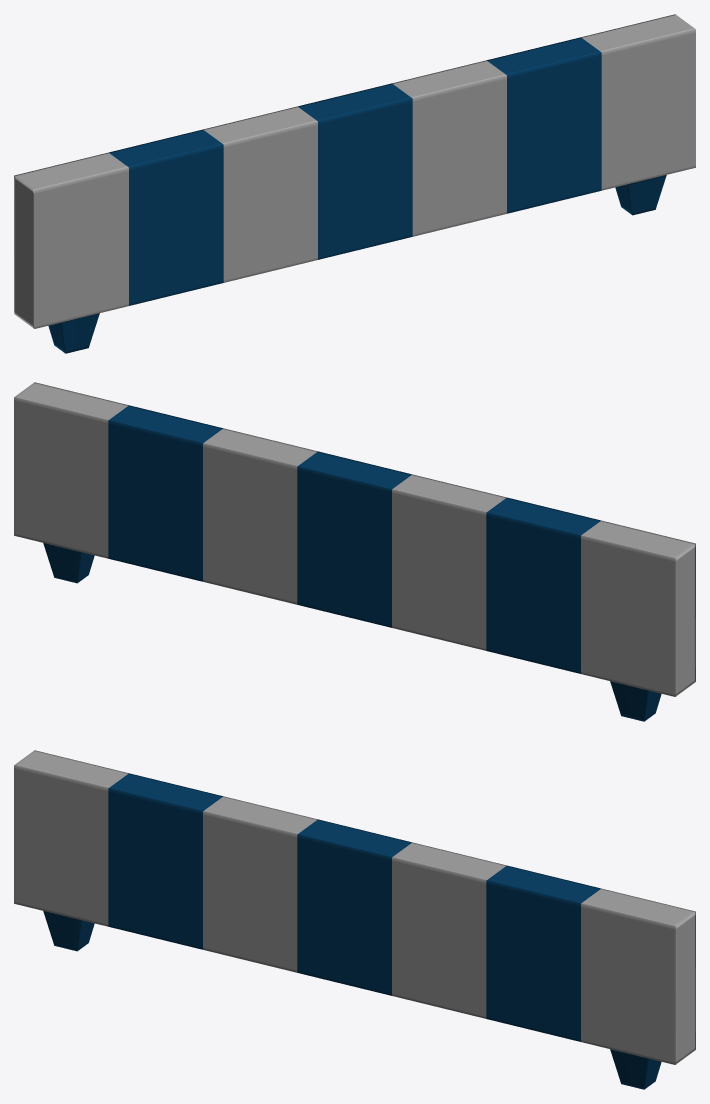
File: Obstacle_low.fbx
The picture shows the model from 3 angles, top to bottom: view 1: azimuth 30°, elevation 25°; view 2: azimuth 150°, elevation 25°; view 3: azimuth 330°, elevation 25°; orthographic projection.
Parts seen in each view (by area): view 1: Obstacle2; view 2: Obstacle2; view 3: Obstacle2.
Part boxes in pixels (x1=…): Obstacle2: x1=14, y1=14, x2=695, y2=353; Obstacle2: x1=14, y1=382, x2=695, y2=721; Obstacle2: x1=14, y1=750, x2=695, y2=1089.
Bounding box in the file's own units: 500 × 127 × 26.99.
